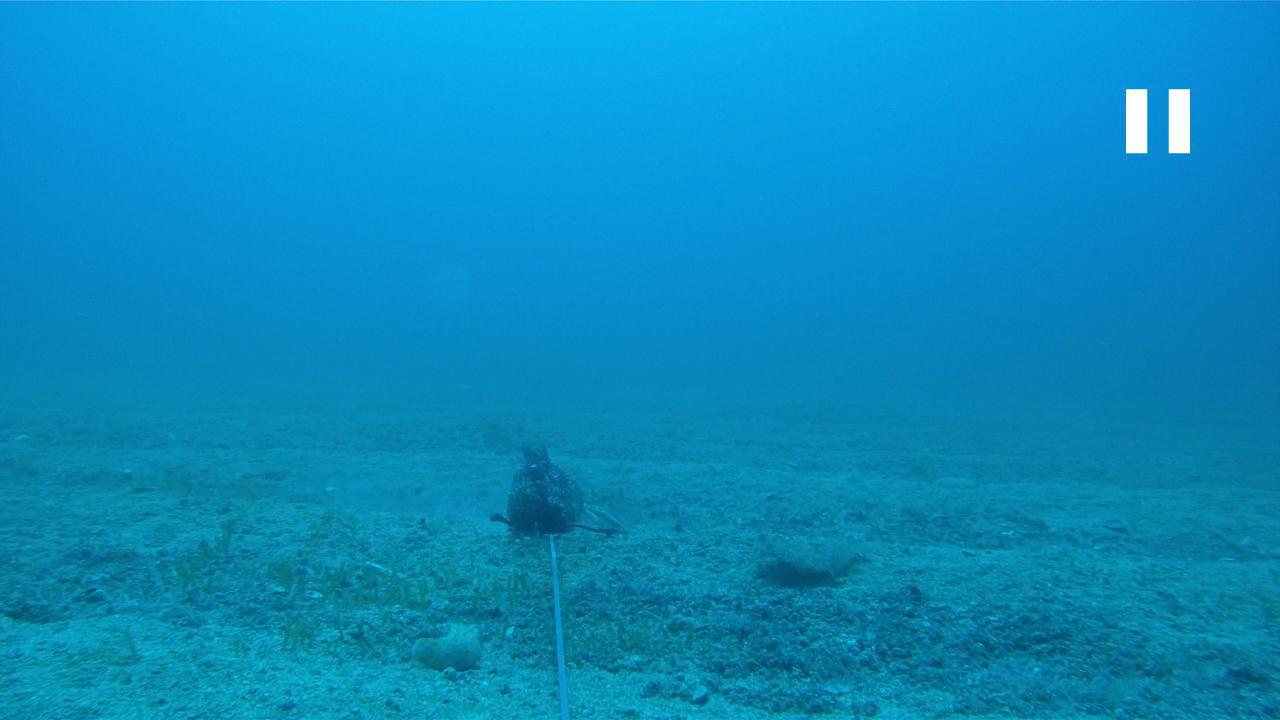bothus: (762, 528, 875, 588), (572, 494, 645, 536)
